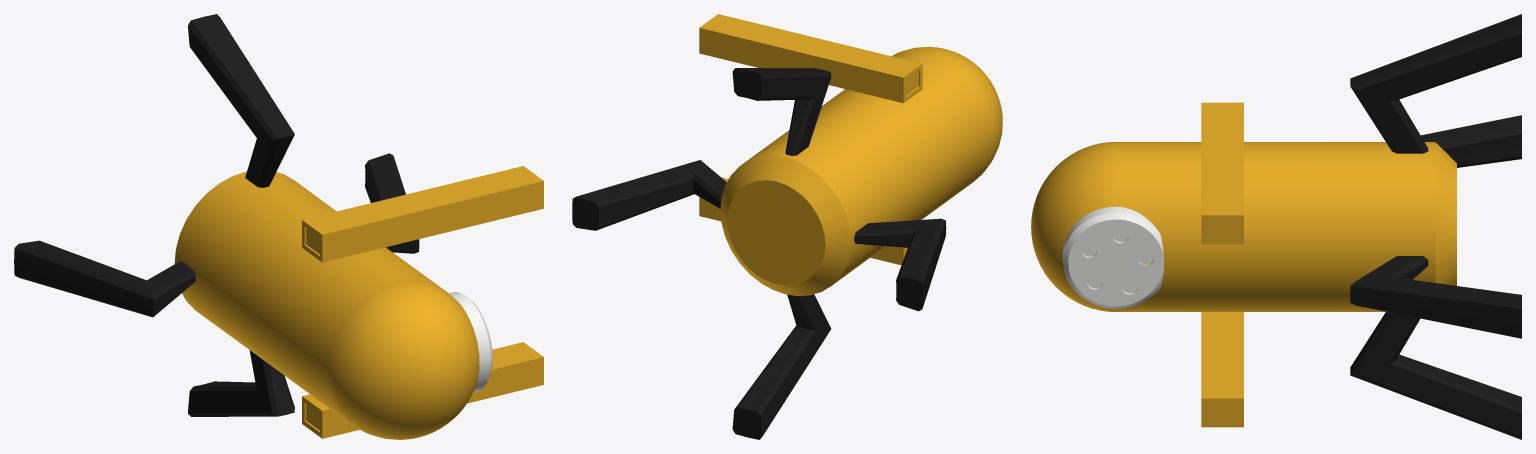
Rendered from Crewmate #5.fbx.
The picture shows the model from 3 angles, left to right: view 1: azimuth 30°, elevation 25°; view 2: azimuth 150°, elevation 25°; view 3: azimuth 270°, elevation 25°; orthographic projection. The views are drawn at different scales.
Parts seen in each view (by area): view 1: Body1, Body3, Body6, Body5, Body8, Body4, Body7, Body2; view 2: Body1, Body3, Body8, Body7, Body6, Body5, Body4; view 3: Body1, Body6, Body8, Body2, Body7, Body3, Body4, Body5.
Part boxes in pixels (bbox=[...]): Body1: bbox=[174, 171, 479, 439]; Body3: bbox=[302, 166, 543, 262]; Body6: bbox=[188, 14, 294, 187]; Body5: bbox=[14, 240, 195, 317]; Body8: bbox=[188, 350, 294, 416]; Body4: bbox=[302, 342, 543, 438]; Body7: bbox=[365, 153, 419, 253]; Body2: bbox=[449, 292, 492, 392]; Body1: bbox=[720, 46, 1002, 295]; Body3: bbox=[699, 14, 922, 103]; Body8: bbox=[732, 294, 831, 439]; Body7: bbox=[572, 160, 726, 230]; Body6: bbox=[732, 68, 831, 155]; Body5: bbox=[854, 218, 946, 311]; Body4: bbox=[699, 177, 907, 265]; Body1: bbox=[1031, 142, 1456, 311]; Body6: bbox=[1350, 14, 1521, 153]; Body8: bbox=[1350, 312, 1521, 439]; Body2: bbox=[1063, 206, 1163, 308]; Body7: bbox=[1350, 256, 1521, 338]; Body3: bbox=[1201, 102, 1243, 244]; Body4: bbox=[1201, 312, 1243, 427]; Body5: bbox=[1420, 115, 1521, 167].
Bounding box in the file's own units: 2145 × 2145 × 2306.
